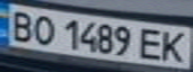1: (57, 16, 81, 51)
4: (78, 19, 100, 53)
8: (93, 20, 115, 55)
9: (112, 24, 136, 57)
B: (3, 8, 39, 43)
E: (136, 26, 166, 62)
K: (157, 28, 193, 64)
O: (27, 12, 57, 46)
